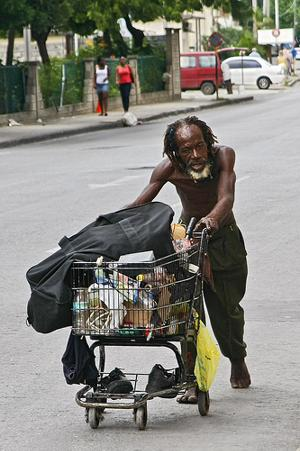person: (123, 117, 254, 395)
